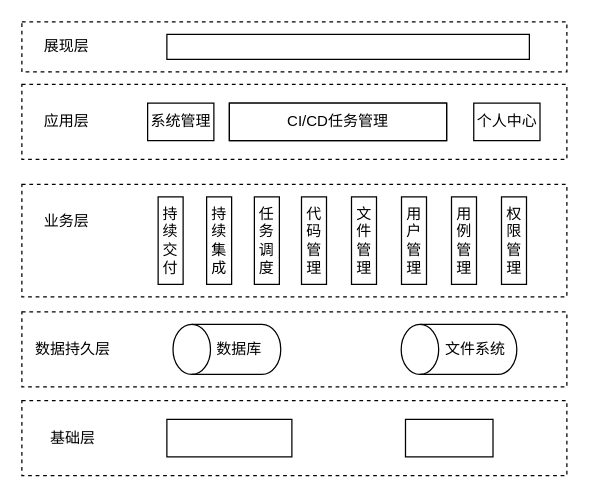
Image size: 589x498. Some labels were removed from this diagram. The shapes that lost their labels are listed below. From the top down, each one's centre as x and y in pixels, then its label:
the point at 347,46: 浏览器
the point at 229,437: 网络/操作系统
the point at 448,437: 服务器
